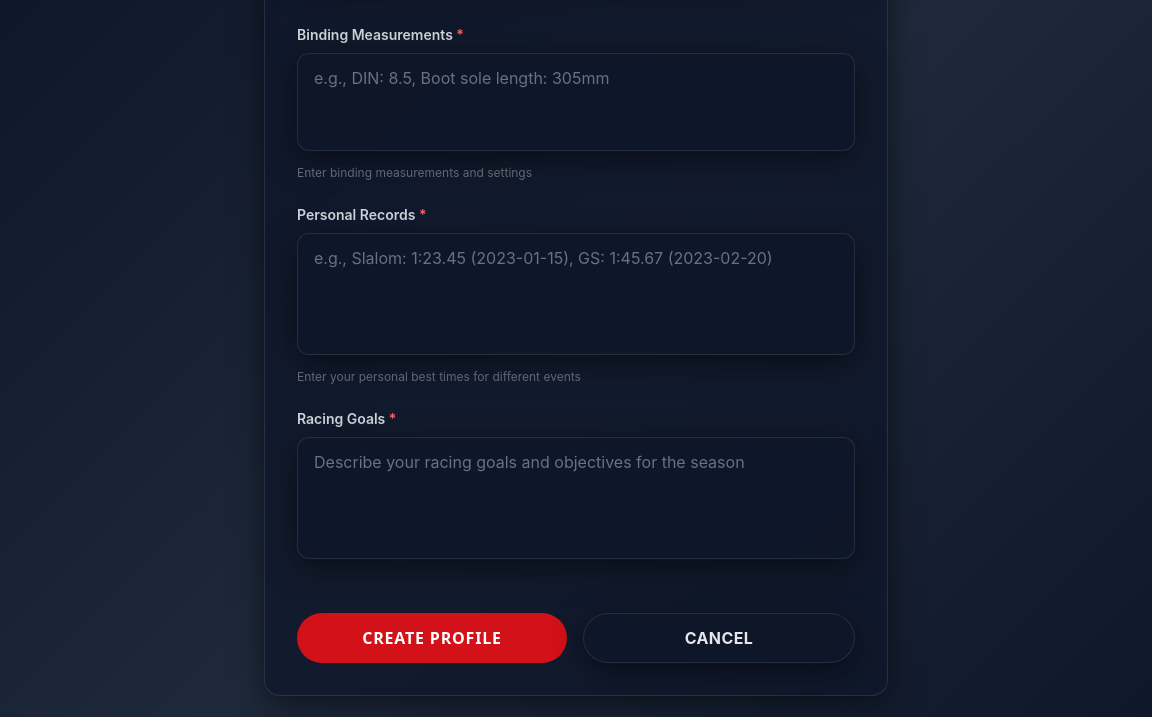
Test: ProfileForm › Validation › should show error when weight is empty
(page scrolled)
Click the button "Create Profile" at (432, 638), box [297,613,567,663]
(page scrolled)
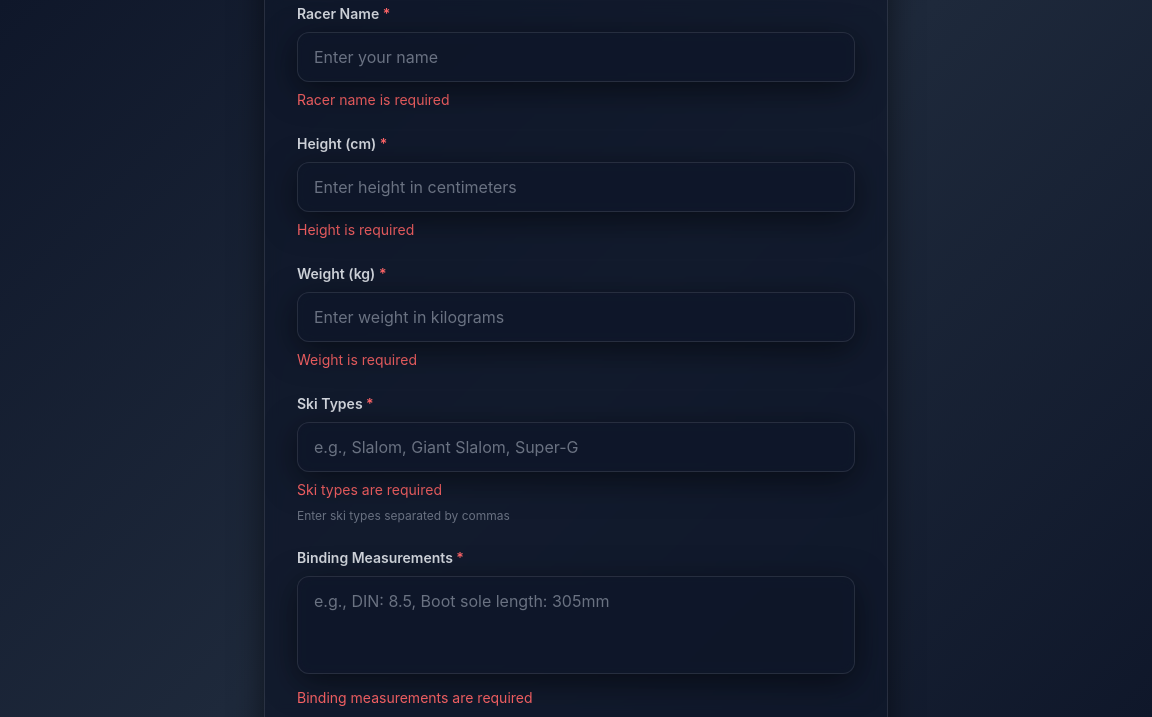
Expected: the text "Weight is required" is shown, [297,351,417,368]
